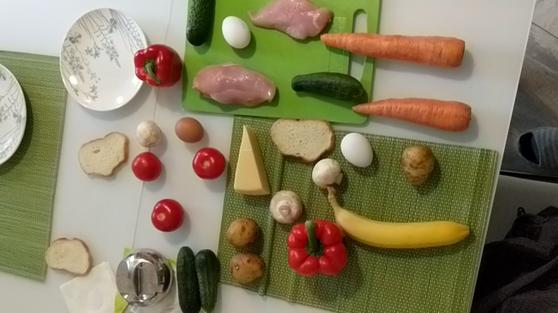banana: (325, 187, 472, 250)
carrot: (320, 31, 465, 67), (352, 97, 474, 131)
champignon: (268, 190, 300, 224), (312, 160, 343, 188), (136, 120, 160, 147)
cheese: (231, 126, 270, 197)
chicken_fillet: (193, 64, 277, 106), (250, 1, 334, 40)
cucumber: (291, 71, 369, 103), (175, 246, 200, 313), (196, 249, 218, 313), (186, 1, 211, 46)
egg: (339, 132, 376, 168), (221, 16, 251, 49), (175, 117, 204, 143)
pepper: (289, 219, 346, 274), (132, 45, 182, 87)
potato: (401, 145, 435, 185), (229, 253, 265, 282), (225, 218, 260, 247)
tomato: (191, 146, 225, 179), (151, 200, 182, 232), (131, 151, 161, 182)
white_bread: (271, 117, 333, 162), (78, 132, 127, 178), (46, 238, 91, 275)
